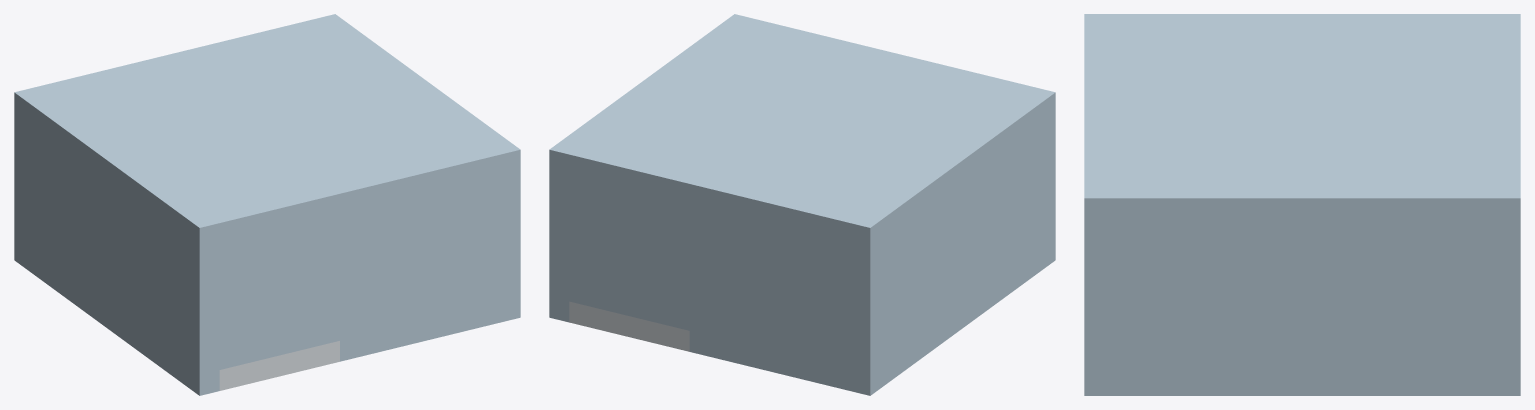
Rendered from ice-passage-mirror.glb.
The picture shows the model from 3 angles, left to right: view 1: azimuth 30°, elevation 25°; view 2: azimuth 150°, elevation 25°; view 3: azimuth 270°, elevation 25°; orthographic projection. The views are drawn at different scales.
Visible parts, largest first — view 1: ice-rock_11, ice-rock_7, plug_ice_south, ice-rock_8, ice-rock_9, ice-rock_10, ice-rock_6, ice-rock_4, ice-rock_5, ice-rock_3, ice-rock_2, snow_10 (+1 smaller); view 2: ice-rock_11, ice-rock_1, ice-rock_7, plug_ice_north, ice-rock_5, ice-rock_4, ice-rock_3, ice-rock_2, snow_1; view 3: ice-rock_11, ice-rock_2.
Boxes of the visible parts, x1,y1,x2,y2 form: ice-rock_11: (14, 14, 520, 248); ice-rock_7: (95, 173, 219, 395); plug_ice_south: (219, 215, 339, 369); ice-rock_8: (420, 185, 460, 341); ice-rock_9: (380, 195, 420, 351); ice-rock_10: (340, 205, 380, 361); ice-rock_6: (460, 175, 500, 331); ice-rock_4: (49, 139, 72, 302); ice-rock_5: (72, 156, 95, 319); ice-rock_3: (26, 122, 48, 285); ice-rock_2: (500, 170, 520, 322); snow_10: (219, 341, 339, 390); ice-rock_11: (549, 14, 1055, 248); ice-rock_1: (689, 205, 881, 395); ice-rock_7: (951, 113, 1055, 336); plug_ice_north: (569, 175, 689, 330); ice-rock_5: (928, 190, 951, 353); ice-rock_4: (905, 207, 928, 370); ice-rock_3: (882, 224, 904, 386); ice-rock_2: (549, 170, 569, 322); snow_1: (569, 301, 689, 351); ice-rock_11: (1084, 14, 1520, 222); ice-rock_2: (1084, 223, 1520, 395).
Bounding box in the file's own units: 8 × 4 × 8.
